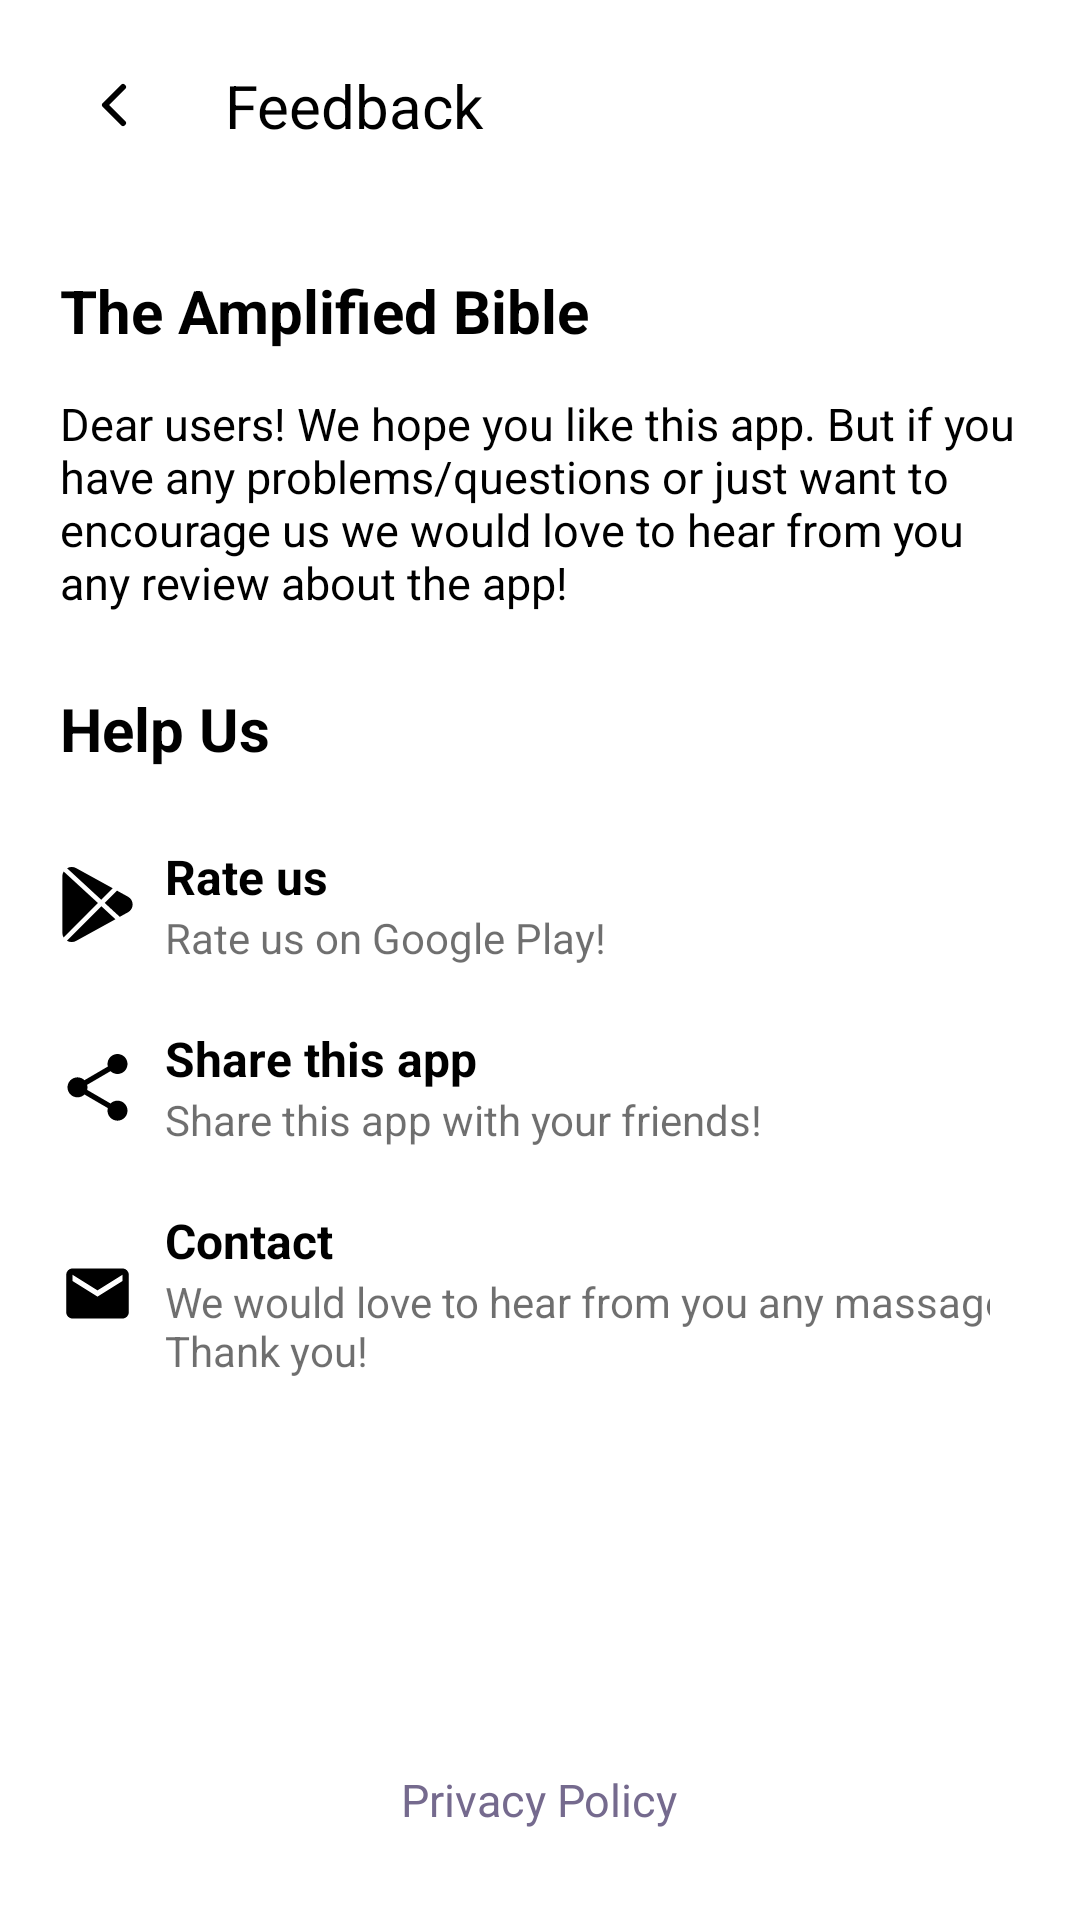

Screen size 1080x1920. Icon name, then its center in pixels as [x,y]:
back toolbar: [114,105]
share feedback: [97,1087]
